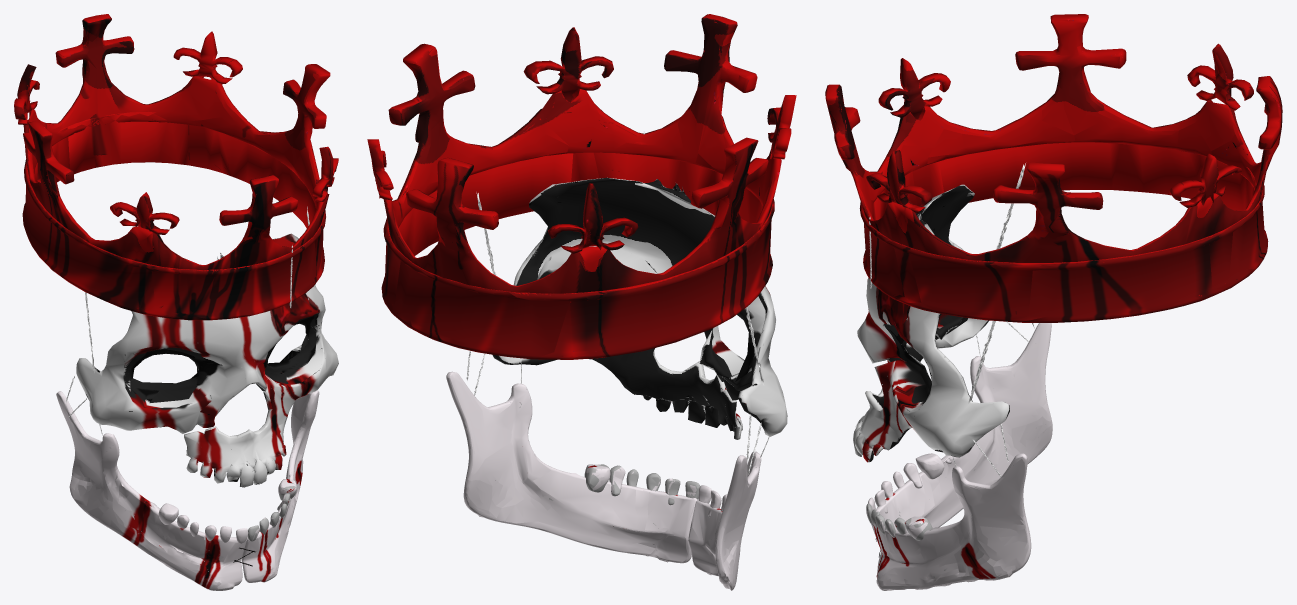
Rendered from watch_dogs.glb.
The picture shows the model from 3 angles, left to right: view 1: azimuth 30°, elevation 25°; view 2: azimuth 150°, elevation 25°; view 3: azimuth 270°, elevation 25°; orthographic projection. The views are drawn at different scales.
Visible parts, largest first — view 1: crown_3, skull_13, jaw dx_4, jaw sx_5; view 2: crown_3, skull_13, jaw sx_5, jaw dx_4; view 3: crown_3, skull_13, jaw sx_5, jaw dx_4.
Part boxes in pixels (x1=…): crown_3: x1=14, y1=14, x2=338, y2=320; skull_13: x1=76, y1=233, x2=338, y2=487; jaw dx_4: x1=56, y1=391, x2=248, y2=590; jaw sx_5: x1=242, y1=390, x2=319, y2=582; crown_3: x1=367, y1=14, x2=796, y2=359; skull_13: x1=492, y1=177, x2=787, y2=439; jaw sx_5: x1=446, y1=371, x2=700, y2=563; jaw dx_4: x1=688, y1=451, x2=761, y2=590; crown_3: x1=825, y1=14, x2=1282, y2=322; skull_13: x1=853, y1=184, x2=1009, y2=462; jaw sx_5: x1=866, y1=453, x2=1031, y2=590; jaw dx_4: x1=868, y1=323, x2=1052, y2=530.
Size of the model in its own units: 1.26 by 1.9 by 1.56.
Materials: 16 (4 with a texture image).
